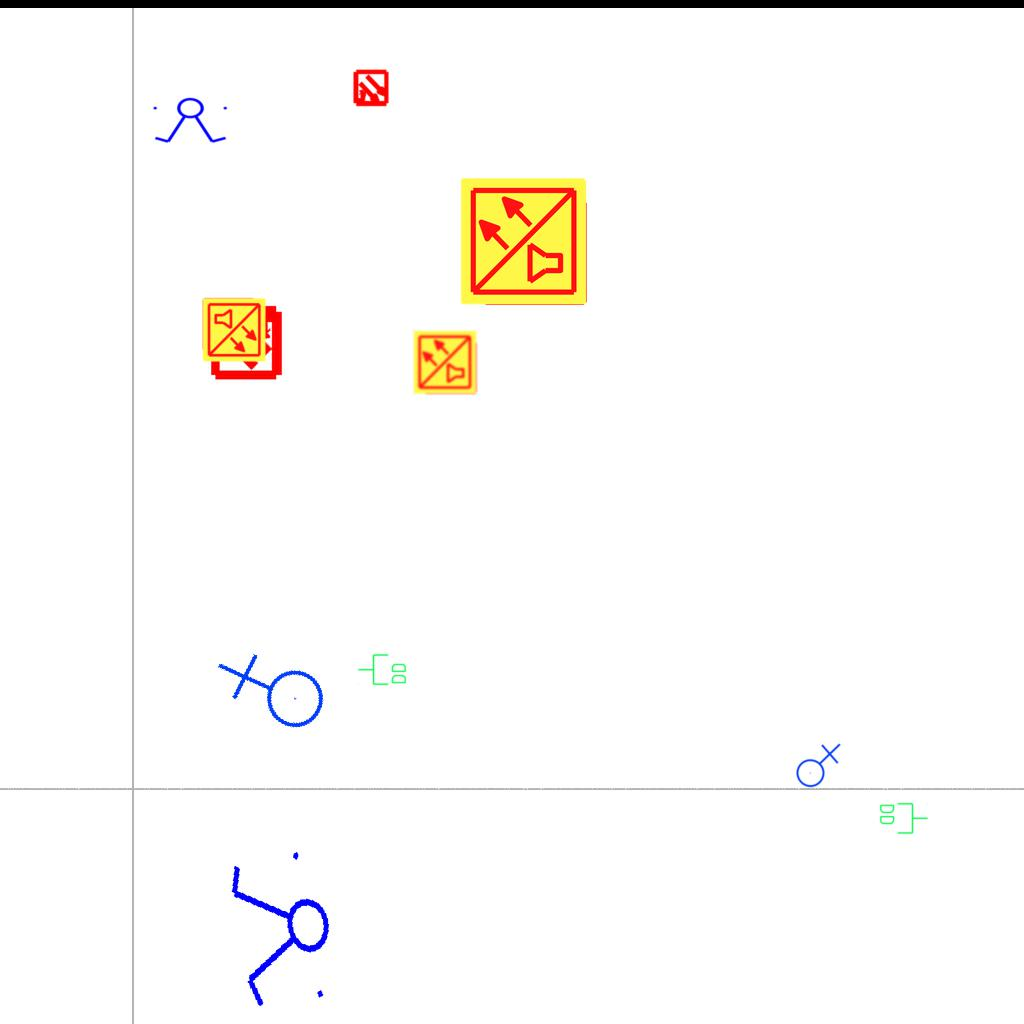Datenanschluss_zweifach: (357, 653, 408, 687), (878, 801, 929, 835)
Elektroanschluss_allgemein_230V_Geraeteanschlussdose_230V: (212, 630, 337, 758), (792, 741, 841, 788)
OKW_Multisensormelder_(Kombination_optischer_Rauch-Kahlenmonoxid_Waerme-Melder): (458, 175, 590, 307), (412, 329, 478, 395), (201, 297, 267, 363)
OT_Multisensormelder_(Kombination_RMO_WMD): (190, 284, 303, 397), (343, 61, 399, 117)
Serienschalter: (221, 839, 345, 1023), (149, 97, 233, 145)
